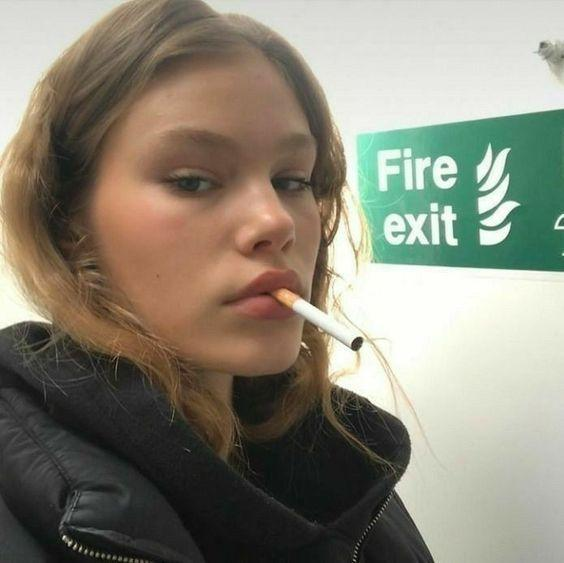cigarette: (269, 287, 363, 352)
